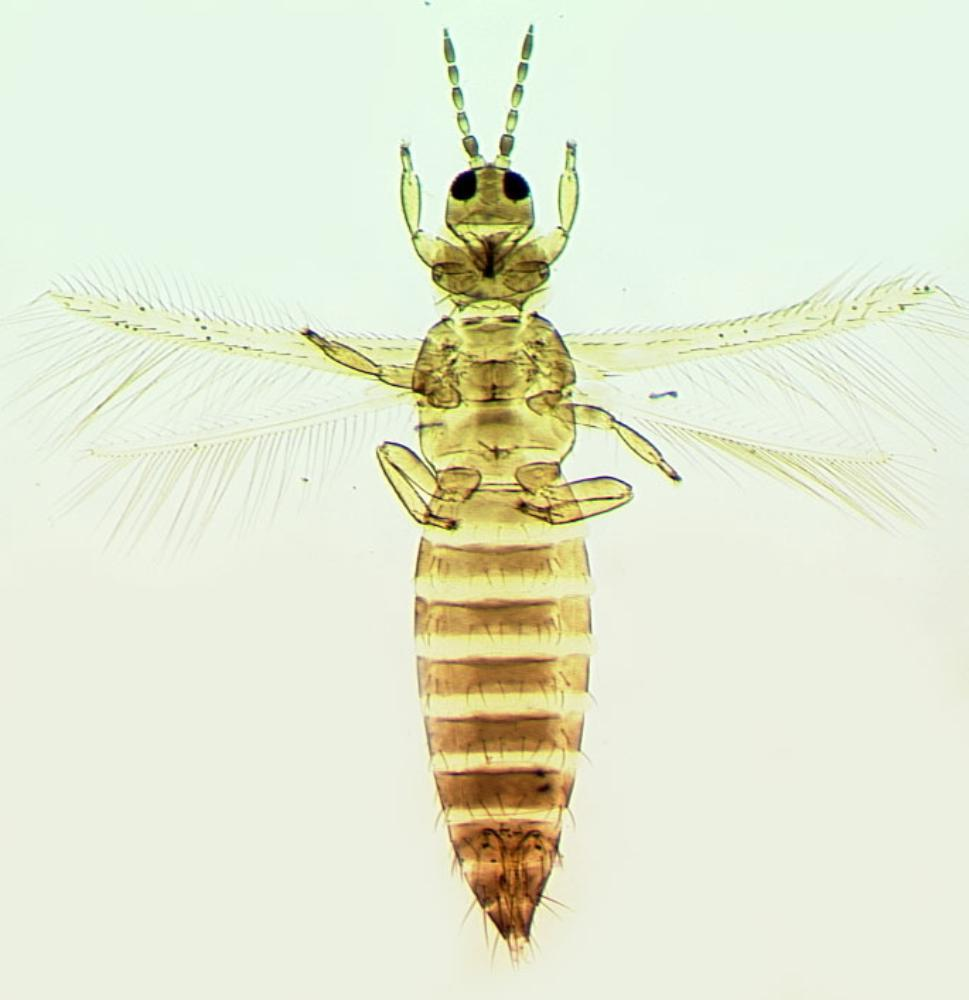Thripidae: (20, 16, 969, 959)
